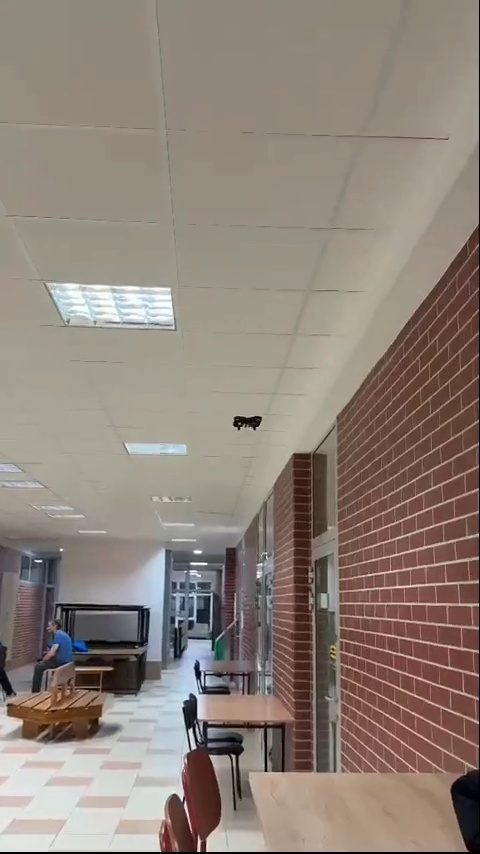drone: (232, 412, 262, 430)
no vest: (29, 617, 80, 683)
